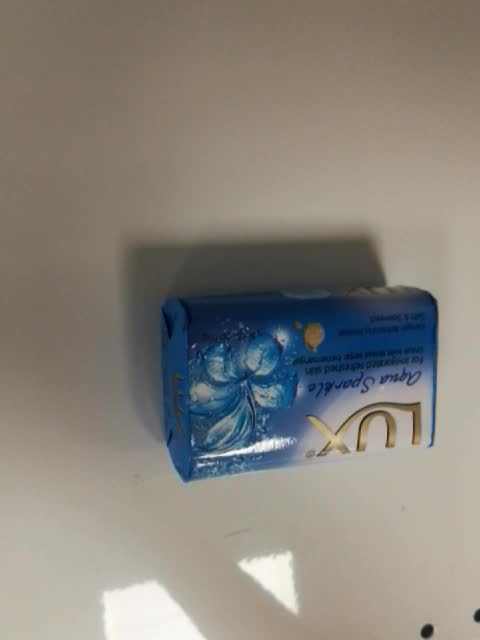soap: (156, 283, 440, 486)
